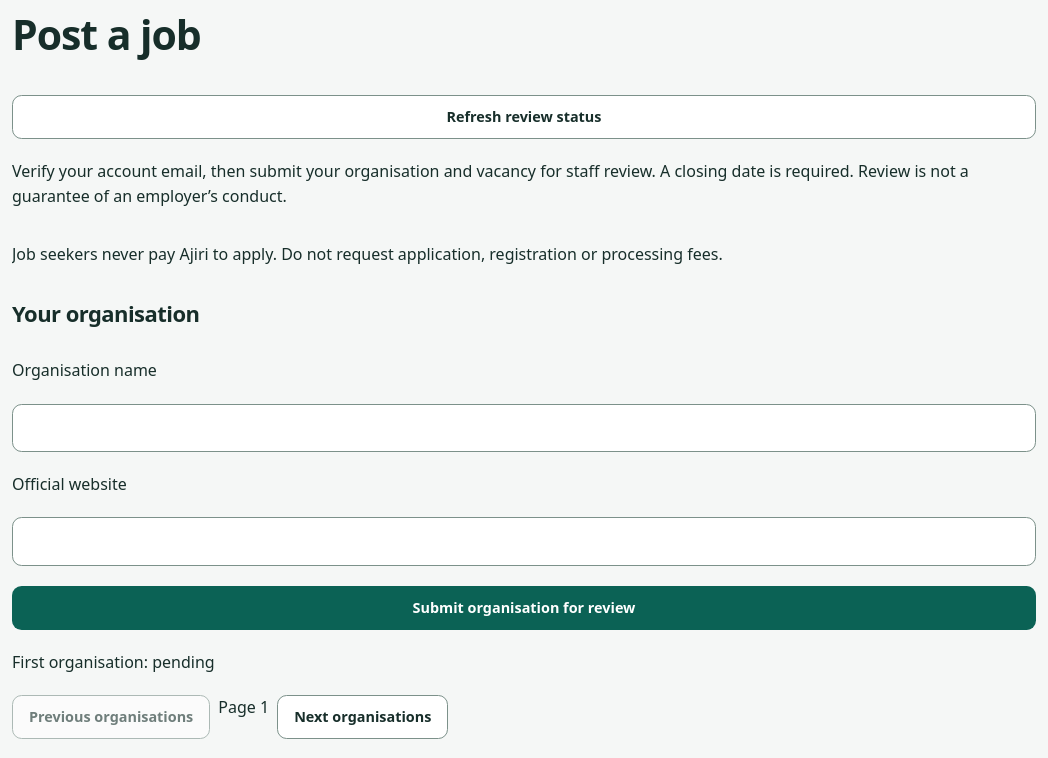
it: loads older organisation pages without following remote pagination URLs
The width and height of the screenshot is (1048, 758).
Expected: the list item "First organisation: pending" is shown, x1=12 y1=651 x2=215 y2=673
Click the button "Next organisations": (363, 717) x1=277 y1=695 x2=448 y2=739
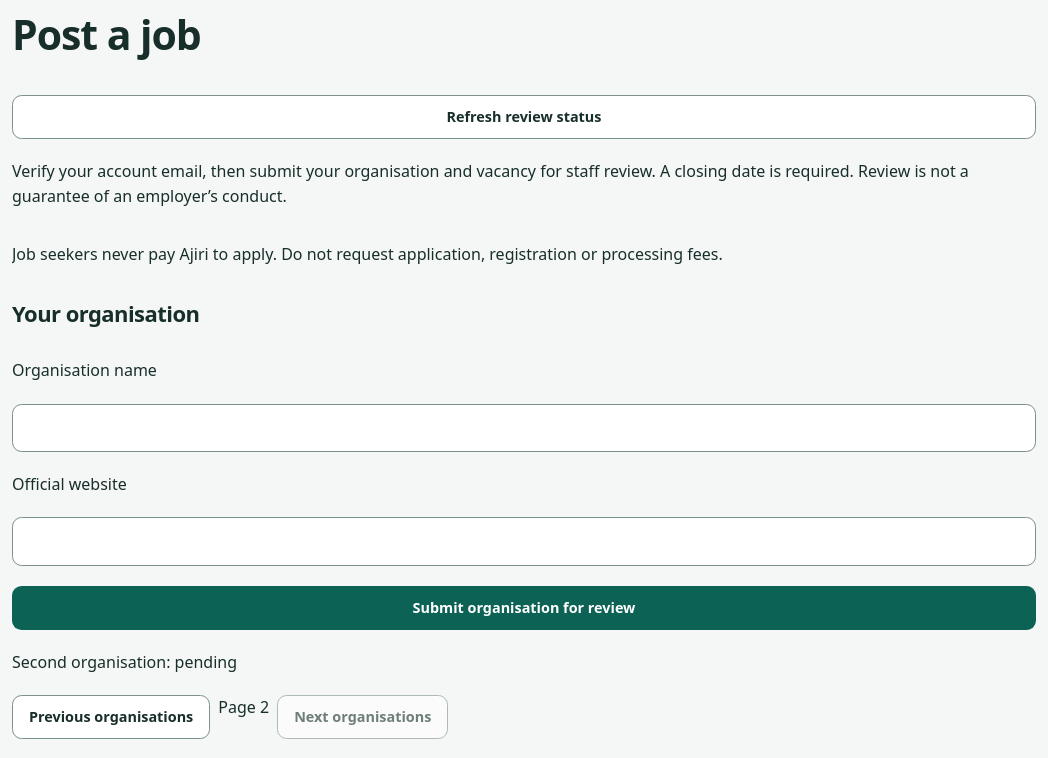
Result: the list item "Second organisation: pending" is shown at x1=12 y1=651 x2=237 y2=673
